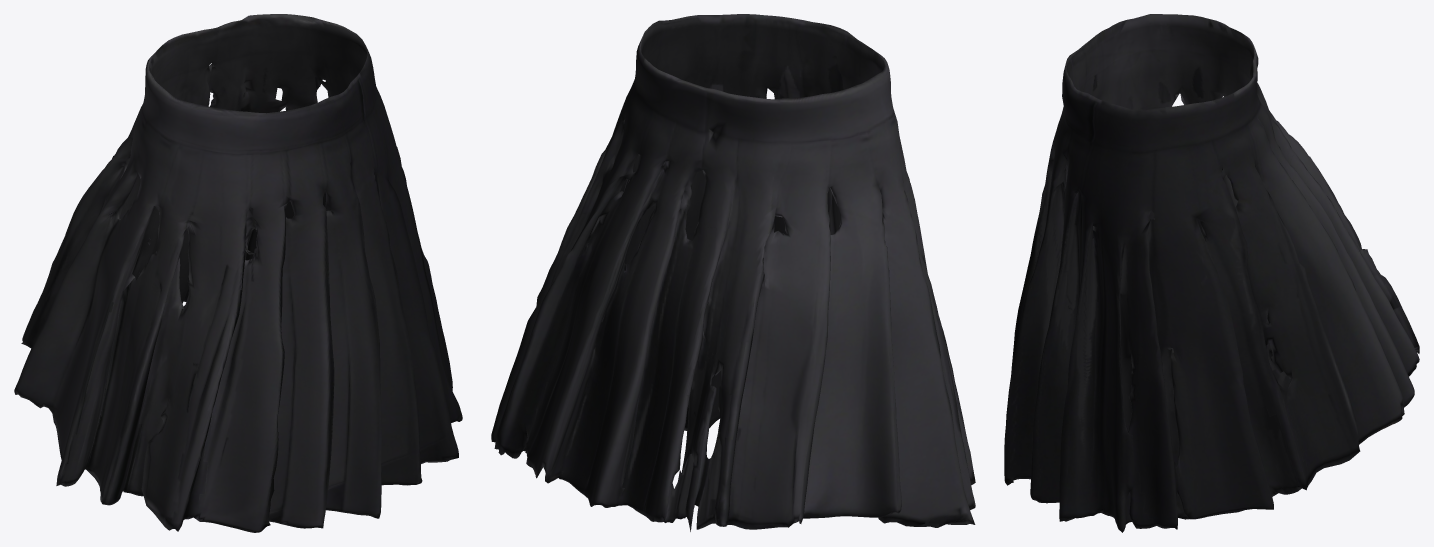
3 views of the same model, side by side, from view 1: azimuth 30°, elevation 25°; view 2: azimuth 150°, elevation 25°; view 3: azimuth 270°, elevation 25° (orthographic). The views are drawn at different scales.
Bounding box in the file's own units: 2 × 1.99 × 1.84.
1 material, 1 textured.
